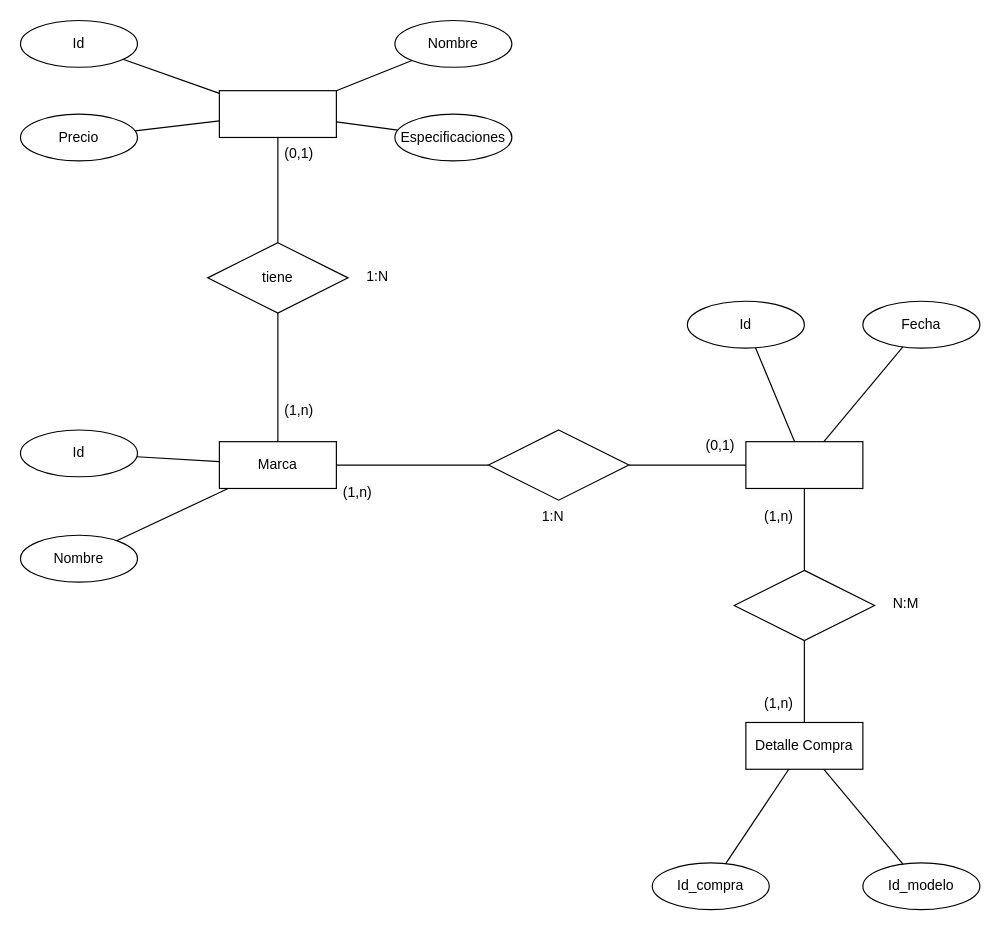
This 1000x930 diagram has some shape labels left out. Each missing label, with the box of its shape:
Compra: (745, 441, 863, 488)
Modelo: (218, 90, 336, 137)
relacion: (487, 429, 629, 500)
su: (733, 569, 875, 641)
